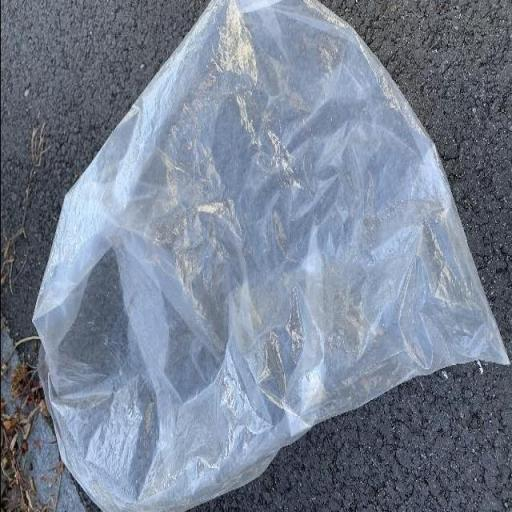plastic-bag: (29, 0, 512, 512)
